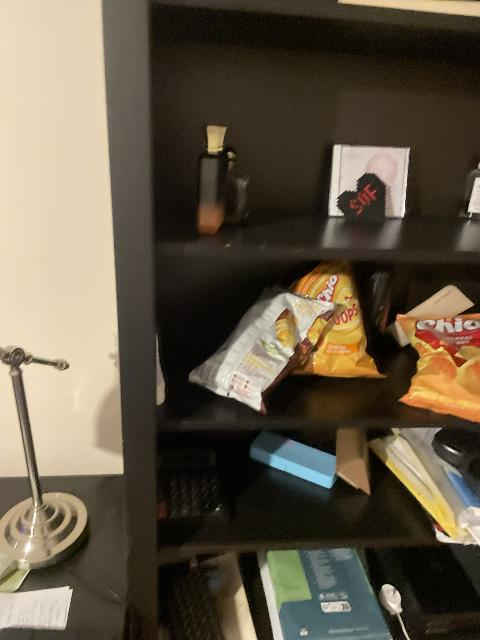Chio Cascaval 125g: (392, 317, 478, 426)
Chio Hula Hoops Cheese 70g: (294, 259, 388, 380)
Lays Beef Grilled Ribs 125g: (193, 283, 339, 411)
